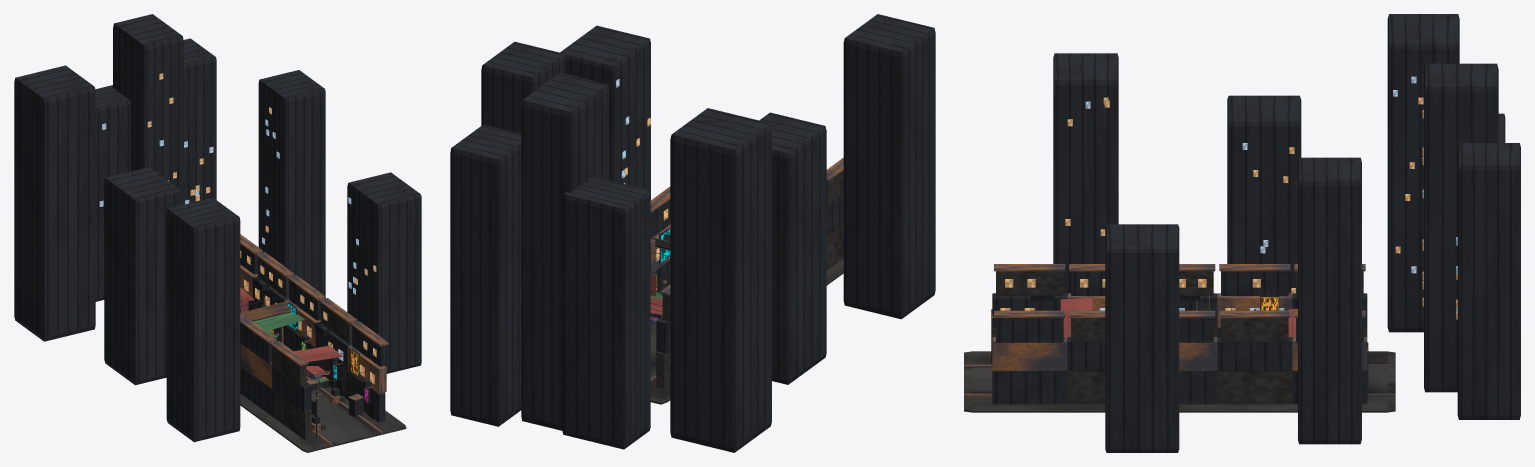
File: Hesperus_Market2_Street.glb
3 views of the same model, side by side, from view 1: azimuth 30°, elevation 25°; view 2: azimuth 150°, elevation 25°; view 3: azimuth 270°, elevation 25° (orthographic). The views are drawn at different scales.
Parts seen in each view (by area): view 1: Tower_3, Tower_1, Tower_2, Tower_6, Tower_5, Tower_7, Tower_9, Tower_8, Ground, StreetCore, Fc-1_0_S1, Fc-1_0_S2 (+16 smaller); view 2: Tower_3, Tower_1, Tower_8, Tower_9, Tower_7, Tower_2, Tower_5, Tower_6, Ground, Fc-1_0_S1, Fc-1_4_S1, Fc-1_0_S2 (+2 smaller); view 3: Tower_6, Tower_9, Tower_5, Tower_7, Tower_1, Tower_3, Tower_2, Ground, Fc1_1_S1, Fc1_4_S1, Fc1_1_S2, Fc1_4_S2 (+20 smaller).
Boxes of the visible parts, x1=… form: Tower_3: x1=14, y1=65, x2=95, y2=341; Tower_1: x1=166, y1=197, x2=240, y2=442; Tower_2: x1=104, y1=167, x2=180, y2=385; Tower_6: x1=258, y1=70, x2=325, y2=295; Tower_5: x1=347, y1=172, x2=421, y2=373; Tower_7: x1=113, y1=14, x2=183, y2=205; Tower_9: x1=183, y1=38, x2=216, y2=204; Tower_8: x1=95, y1=85, x2=130, y2=301; Ground: x1=240, y1=371, x2=406, y2=452; StreetCore: x1=306, y1=379, x2=379, y2=444; Fc-1_0_S1: x1=273, y1=391, x2=311, y2=440; Fc-1_0_S2: x1=272, y1=366, x2=311, y2=411; Tower_3: x1=670, y1=108, x2=771, y2=452; Tower_1: x1=843, y1=14, x2=935, y2=319; Tower_8: x1=562, y1=176, x2=650, y2=449; Tower_9: x1=450, y1=124, x2=521, y2=426; Tower_7: x1=521, y1=72, x2=609, y2=430; Tower_2: x1=759, y1=112, x2=826, y2=384; Tower_5: x1=560, y1=25, x2=650, y2=200; Tower_6: x1=481, y1=41, x2=565, y2=133; Ground: x1=650, y1=258, x2=843, y2=404; Fc-1_0_S1: x1=826, y1=224, x2=843, y2=270; Fc-1_4_S1: x1=656, y1=351, x2=670, y2=388; Fc-1_0_S2: x1=826, y1=196, x2=843, y2=236; Tower_6: x1=1298, y1=157, x2=1361, y2=444; Tower_9: x1=1457, y1=143, x2=1520, y2=419; Tower_5: x1=1105, y1=224, x2=1179, y2=452; Tower_7: x1=1424, y1=63, x2=1498, y2=392; Tower_1: x1=1053, y1=53, x2=1118, y2=293; Tower_3: x1=1387, y1=14, x2=1459, y2=332; Tower_2: x1=1227, y1=95, x2=1301, y2=293; Ground: x1=964, y1=351, x2=1395, y2=412; Fc1_1_S1: x1=992, y1=371, x2=1067, y2=404; Fc1_4_S1: x1=1217, y1=371, x2=1292, y2=404; Fc1_1_S2: x1=992, y1=337, x2=1067, y2=371; Fc1_4_S2: x1=1217, y1=337, x2=1292, y2=371.
Bounding box in the file's own units: 38.08 × 36.2 × 59.37.
Materials: 14 (13 with a texture image).
